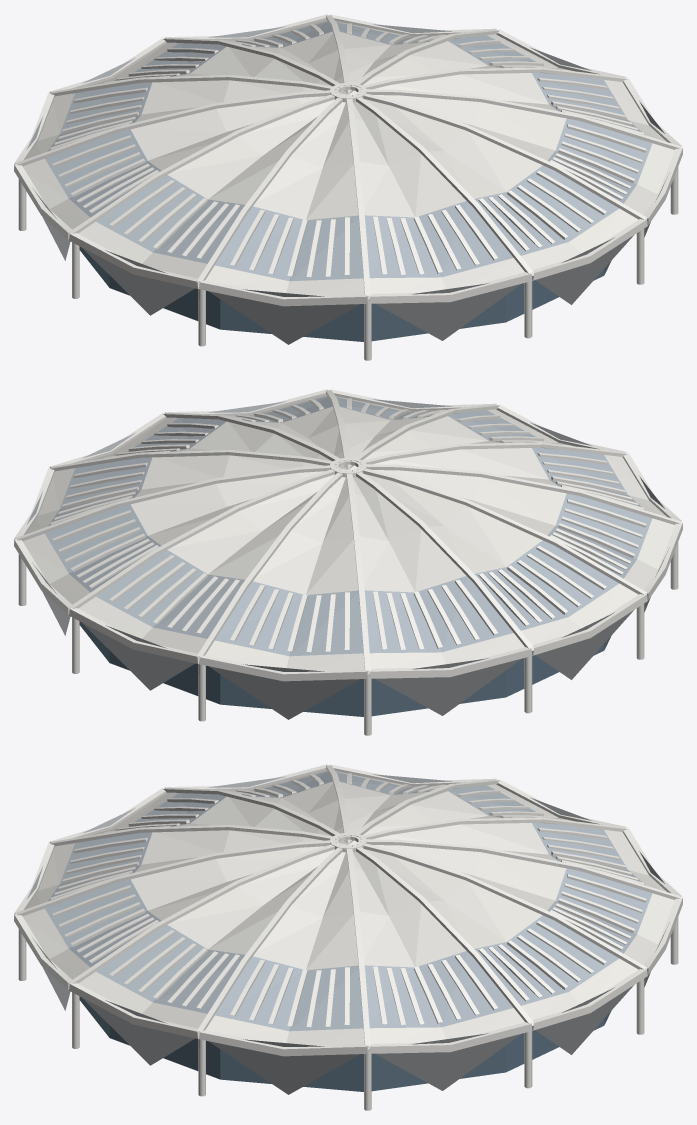
File: seoul-kspo-dome.glb
3 views of the same model, one above another, from view 1: azimuth 30°, elevation 25°; view 2: azimuth 150°, elevation 25°; view 3: azimuth 270°, elevation 25° (orthographic).
Parts seen in each view (by area): view 1: KSPO Dome; view 2: KSPO Dome; view 3: KSPO Dome.
Part boxes in pixels (bbox=[...]): KSPO Dome: bbox=[14, 14, 682, 360]; KSPO Dome: bbox=[14, 389, 682, 735]; KSPO Dome: bbox=[14, 764, 682, 1110].
Bounding box in the file's own units: 137 × 29.51 × 137.
